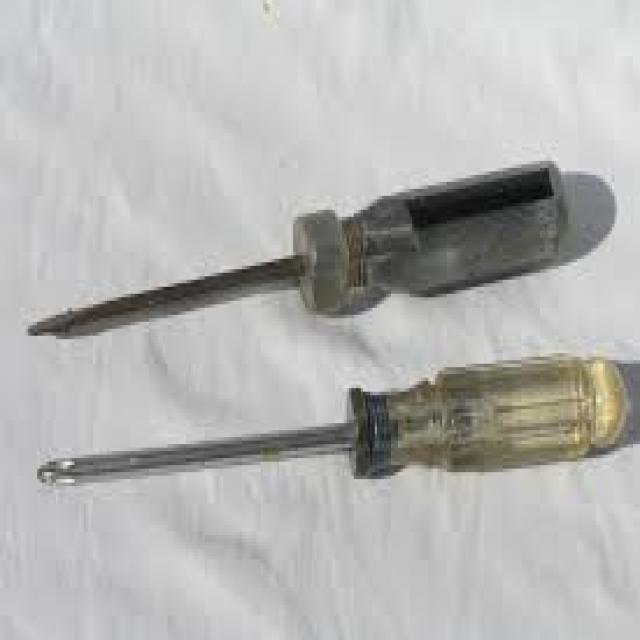Screwdriver: (27, 157, 565, 337), (37, 360, 631, 483)
